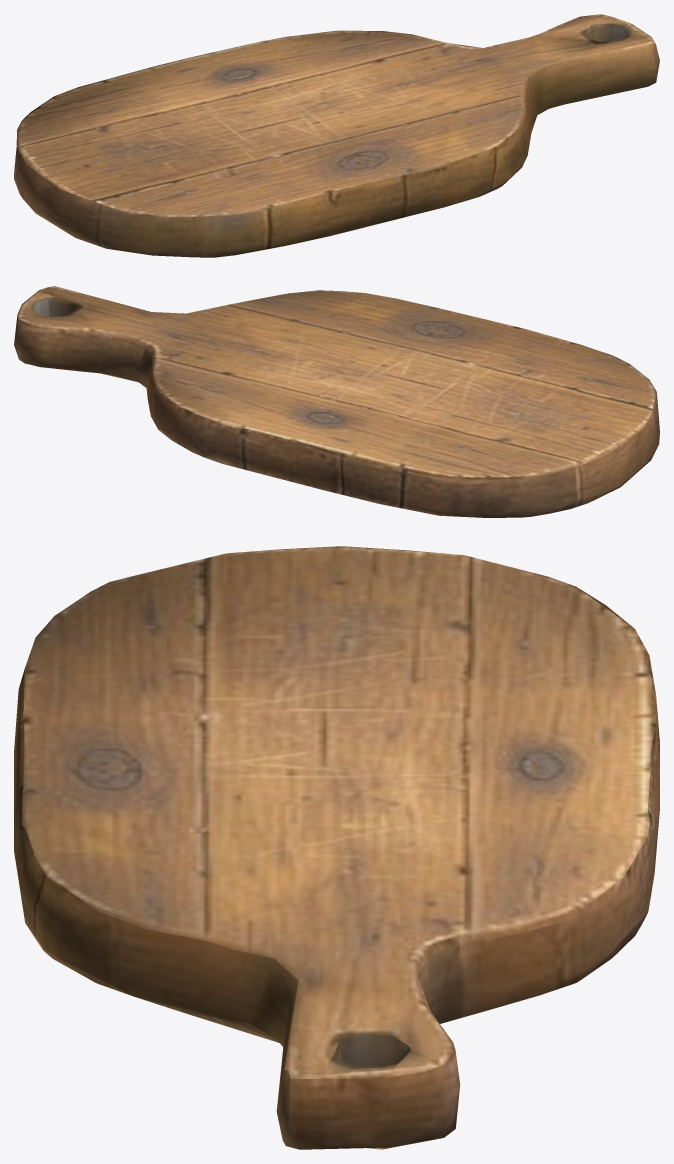
The picture shows the model from 3 angles, top to bottom: view 1: azimuth 30°, elevation 25°; view 2: azimuth 150°, elevation 25°; view 3: azimuth 270°, elevation 25°; orthographic projection. The views are drawn at different scales.
Visible parts, largest first — view 1: geometry_0; view 2: geometry_0; view 3: geometry_0.
Part boxes in pixels (x1,y1,x2,y2): geometry_0: (14, 14, 659, 257); geometry_0: (14, 286, 659, 517); geometry_0: (14, 546, 659, 1149).
Size of the model in its own units: 0.4492 by 0.0324 by 0.2285.
Materials: 1 (1 with a texture image).
